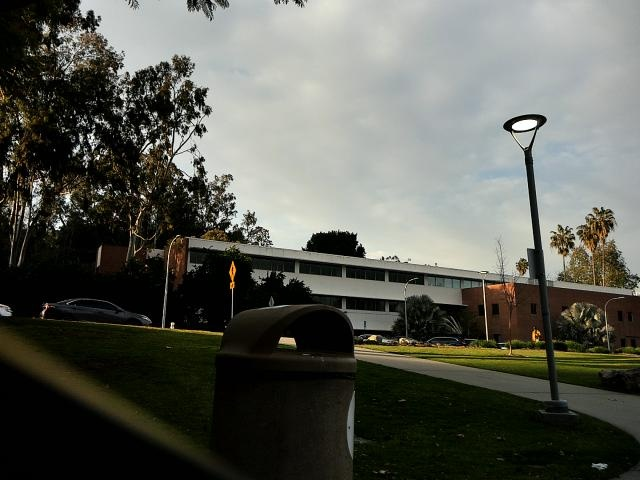trashcan: (206, 285, 366, 480)
